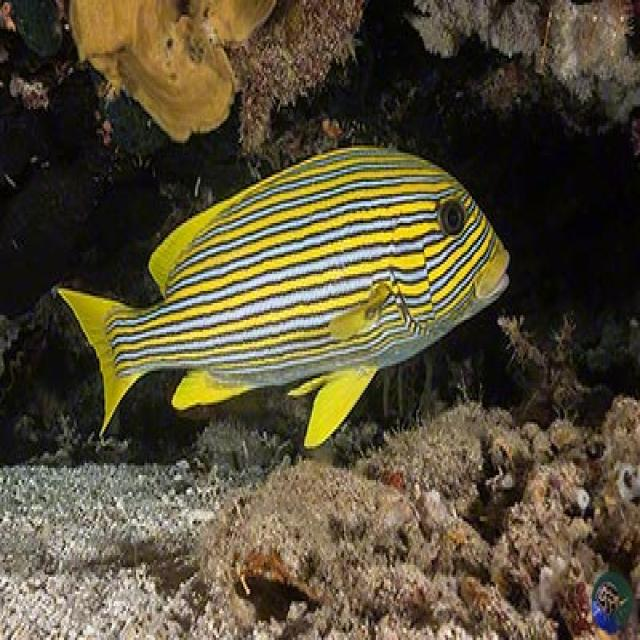RibbonedSweetlips: (53, 140, 512, 448)
